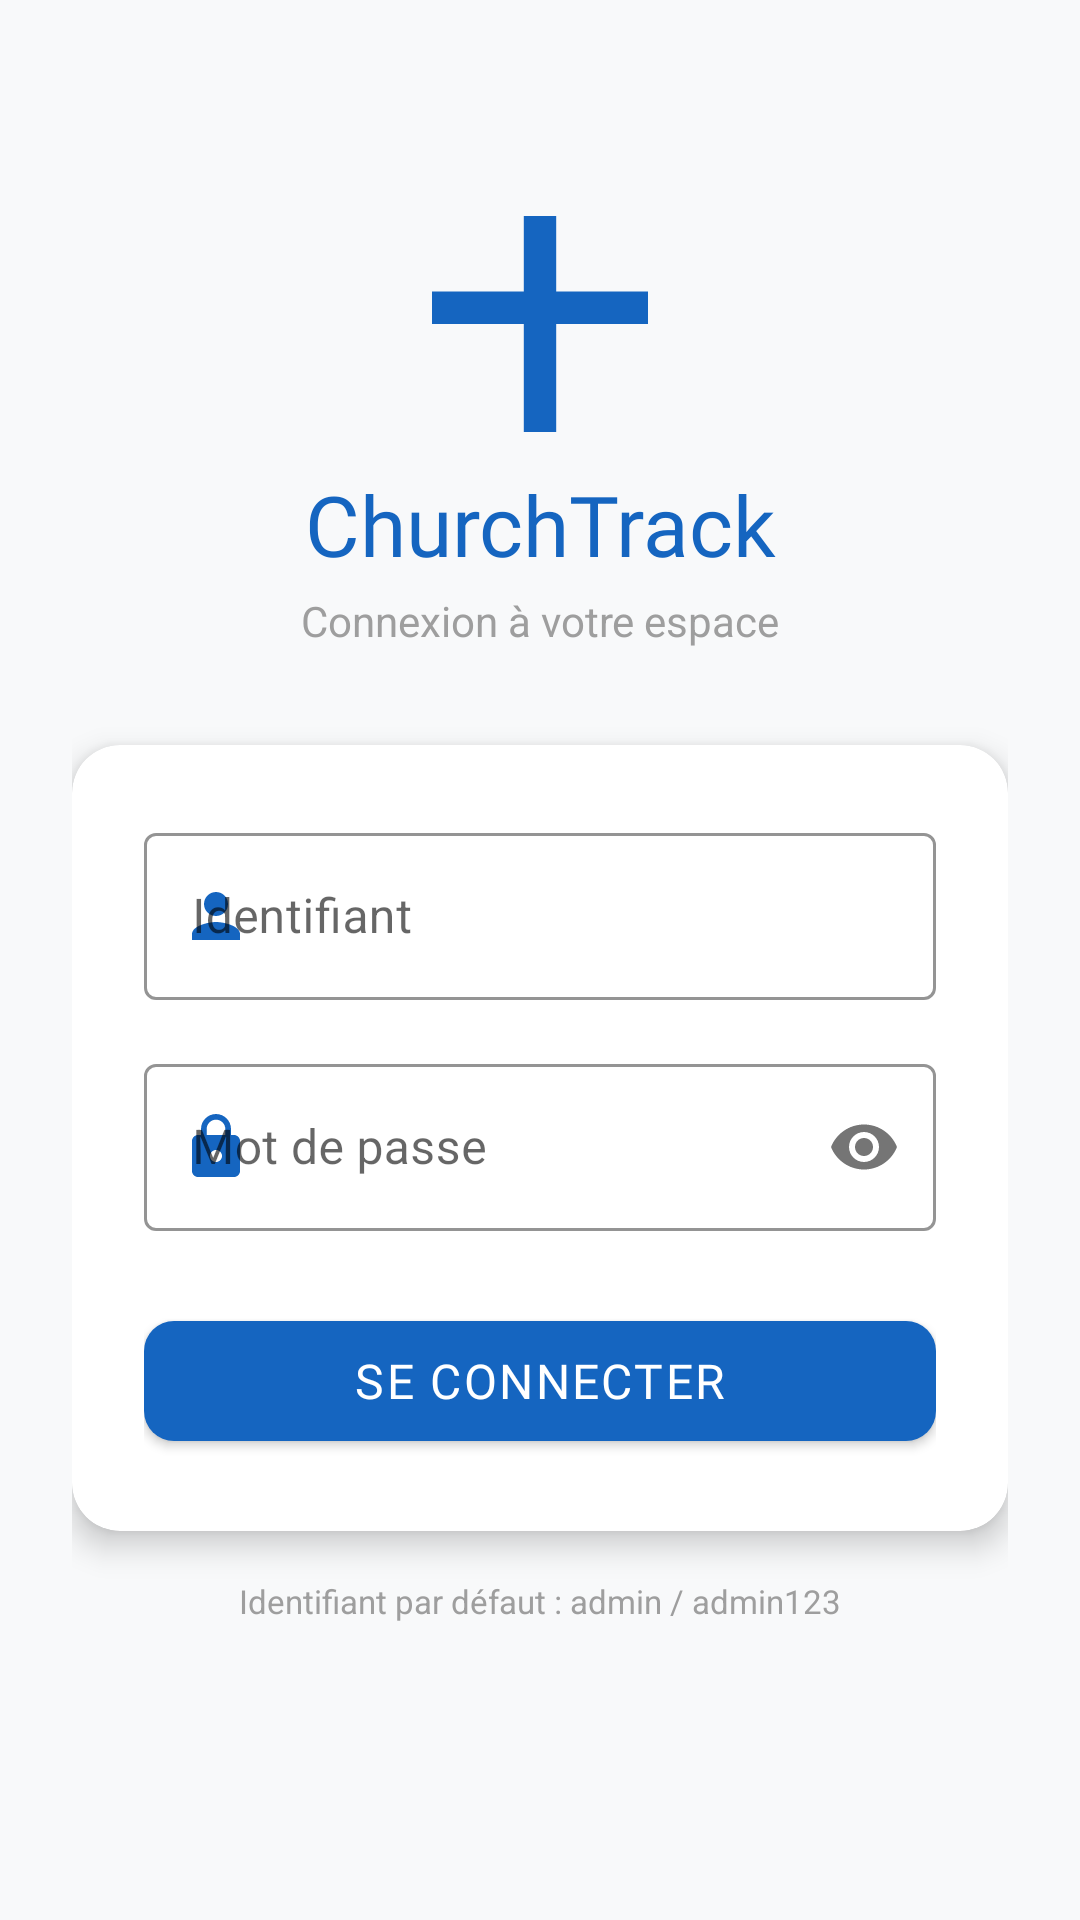

Named icons in this screenshot (1080*1920) and their bounding boxes, (x1, y1, x2, y2):
cross: (432, 216, 648, 432)
